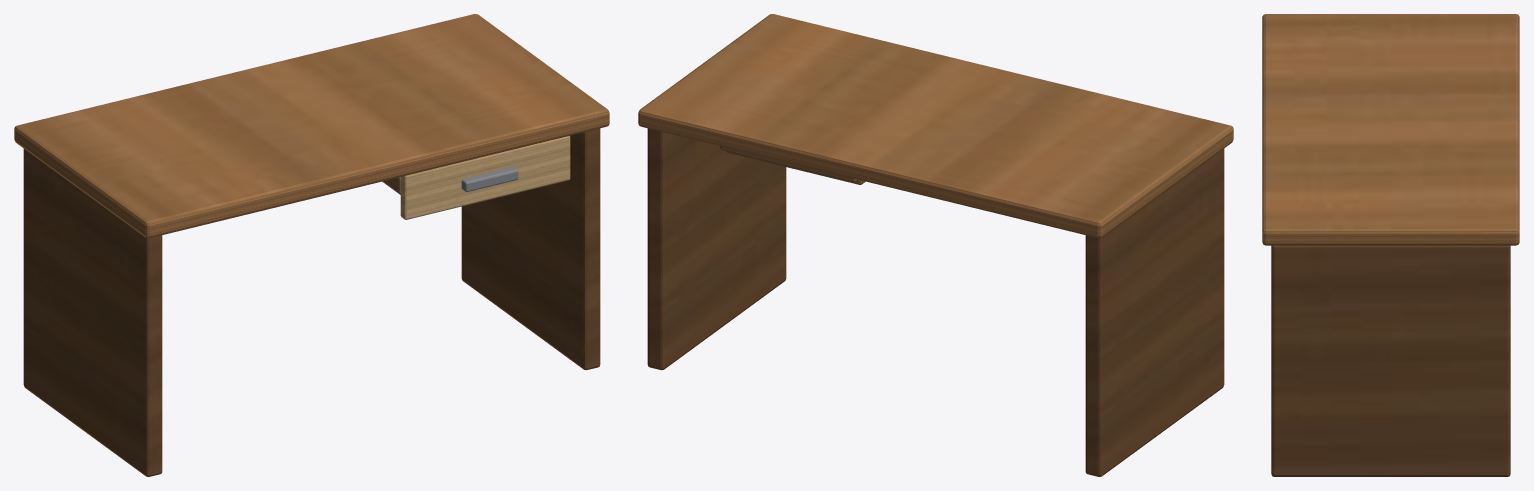
File: desk.glb
3 views of the same model, side by side, from view 1: azimuth 30°, elevation 25°; view 2: azimuth 150°, elevation 25°; view 3: azimuth 270°, elevation 25° (orthographic). The views are drawn at different scales.
Parts seen in each view (by area): view 1: top.003, sideL, sideR, part_drawer__desk; view 2: top.003, sideL, sideR, part_drawer__desk; view 3: top.003, sideR.
Part boxes in pixels (x1=…): top.003: x1=14, y1=14, x2=609, y2=238; sideL: x1=23, y1=149, x2=162, y2=476; sideR: x1=461, y1=128, x2=600, y2=370; part_drawer__desk: x1=382, y1=136, x2=570, y2=219; top.003: x1=638, y1=14, x2=1233, y2=238; sideL: x1=1085, y1=149, x2=1224, y2=476; sideR: x1=647, y1=128, x2=786, y2=370; part_drawer__desk: x1=720, y1=146, x2=865, y2=184; top.003: x1=1262, y1=14, x2=1519, y2=245; sideR: x1=1271, y1=245, x2=1510, y2=476.
Size of the model in its own units: 1.4 by 0.75 by 0.7.
5 materials, 4 textured.
